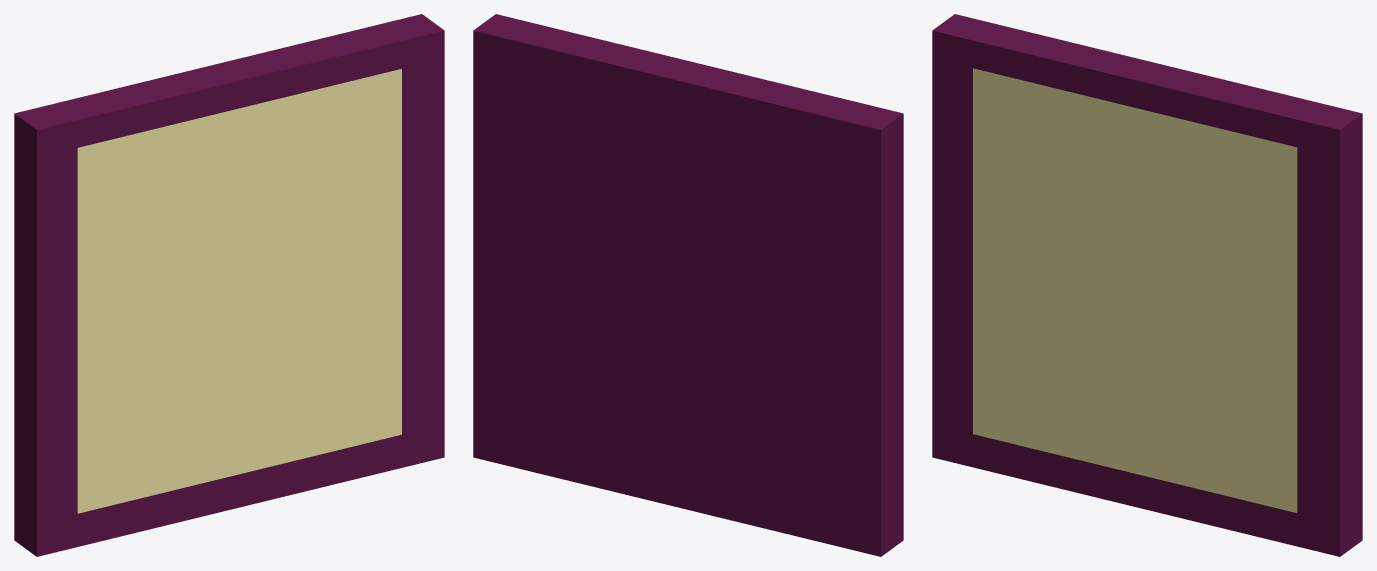
File: computer.gltf
3 views of the same model, side by side, from view 1: azimuth 30°, elevation 25°; view 2: azimuth 150°, elevation 25°; view 3: azimuth 330°, elevation 25° (orthographic).
Parts seen in each view (by area): view 1: computer; view 2: computer; view 3: computer.
Part boxes in pixels (left/top/right/bottom): computer: left=14, top=14, right=444, bottom=556; computer: left=473, top=14, right=903, bottom=556; computer: left=932, top=14, right=1362, bottom=556.
Bounding box in the file's own units: 1 × 1 × 0.0965.
1 material, 1 textured.
